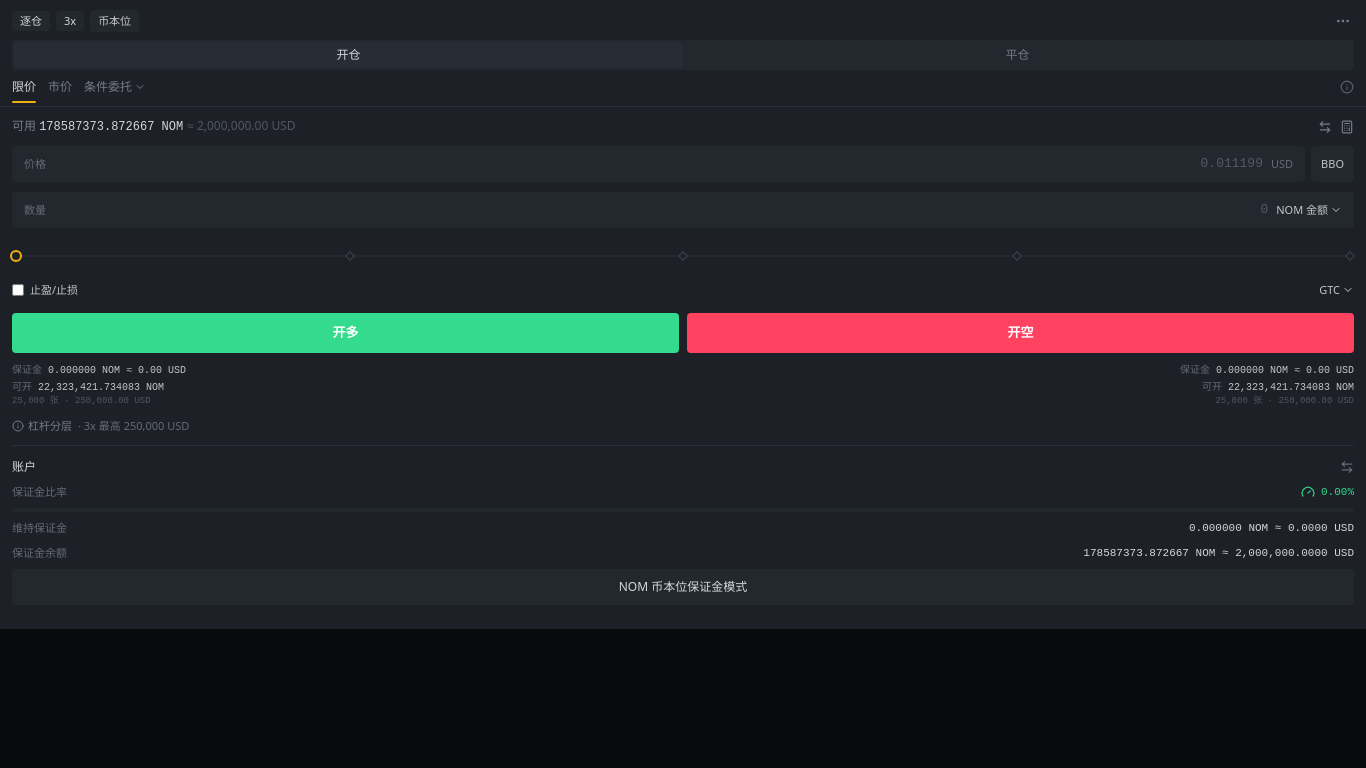
Test: 条件委托按触发价折算 › 触发价高于市价（买入止损）方向同样成立：3300 币是 4 张而不是 3 张
This screenshot has width=1366, height=768.
Step 1. Click the button with test id "advanced-type-slot" → (115, 90), box [84,78,146,102]
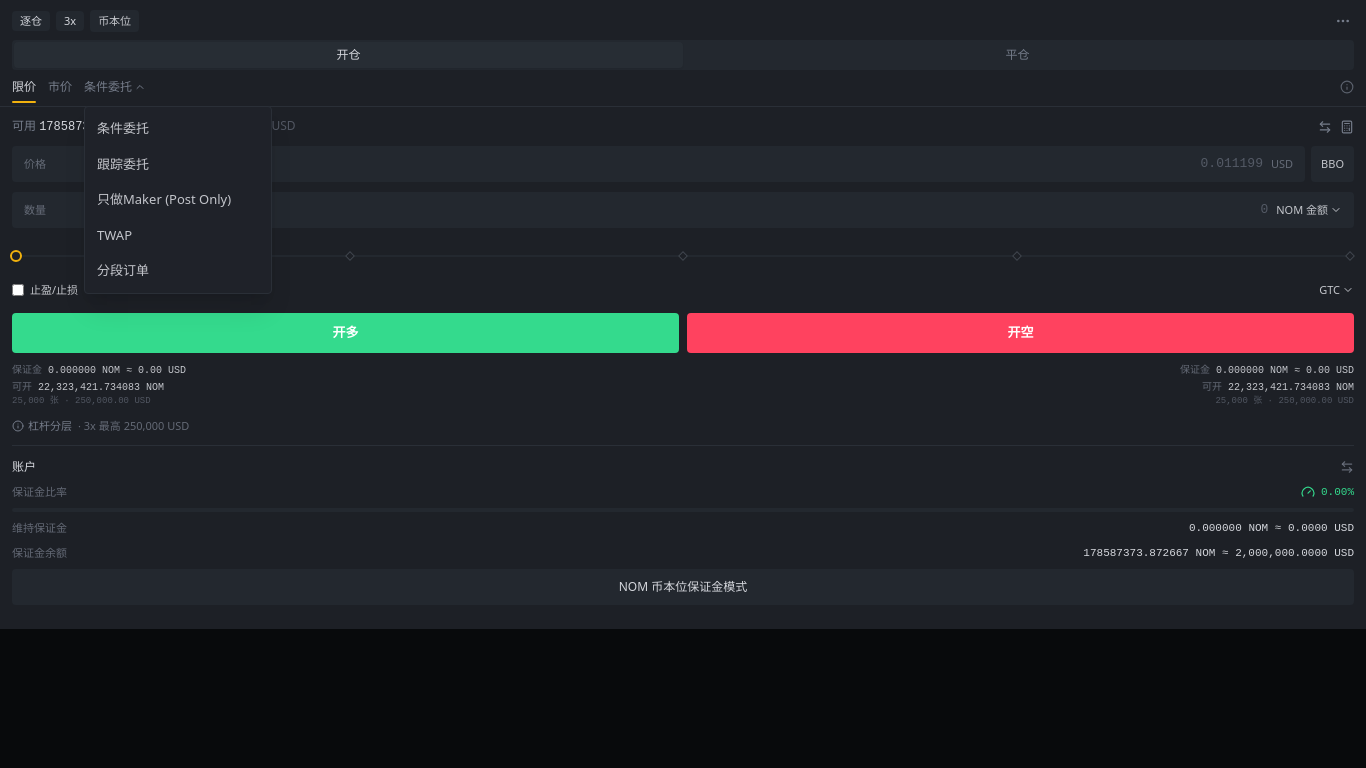
Step 2. Click the 2nd button "条件委托" → (178, 129), box [85,111,271,146]
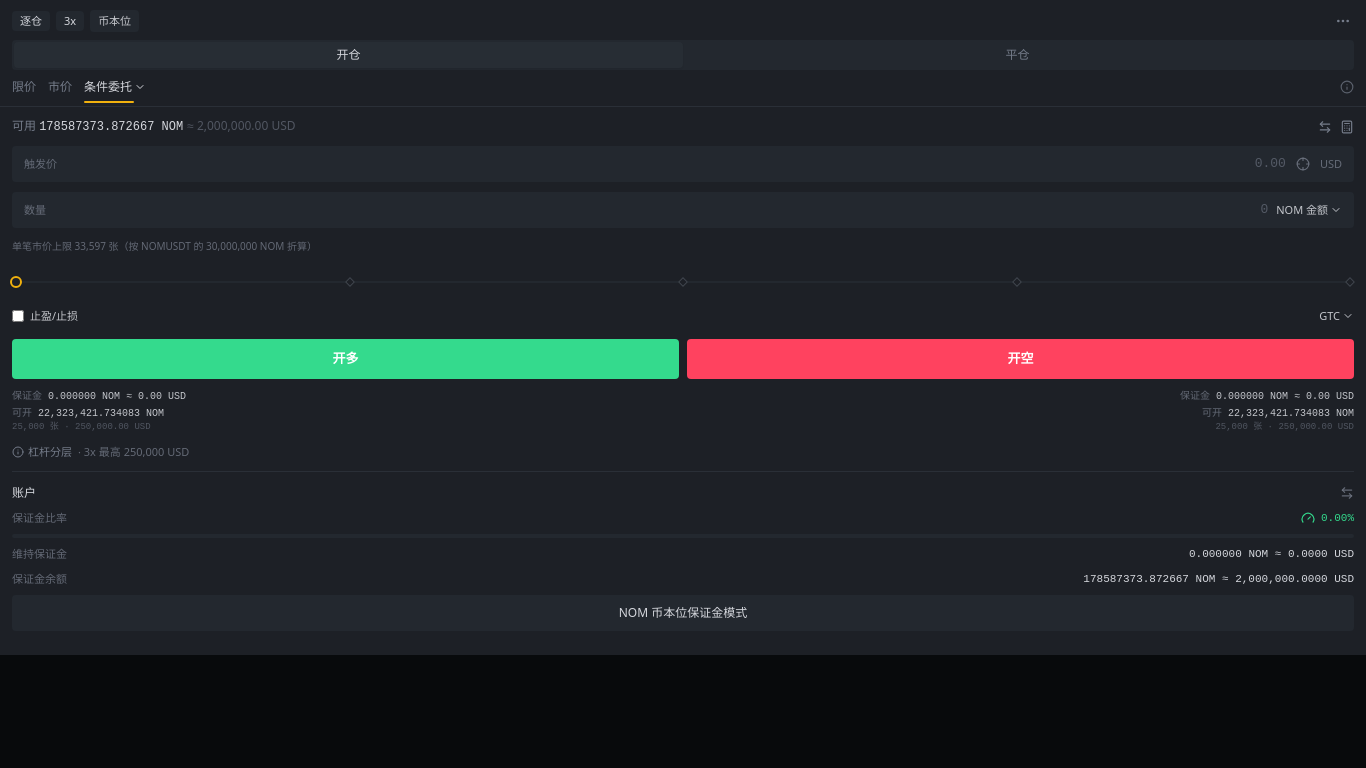
Step 3. Type "0.0125" into the field with test id "order-trigger-price" → (675, 164), box [65,154,1286,174]
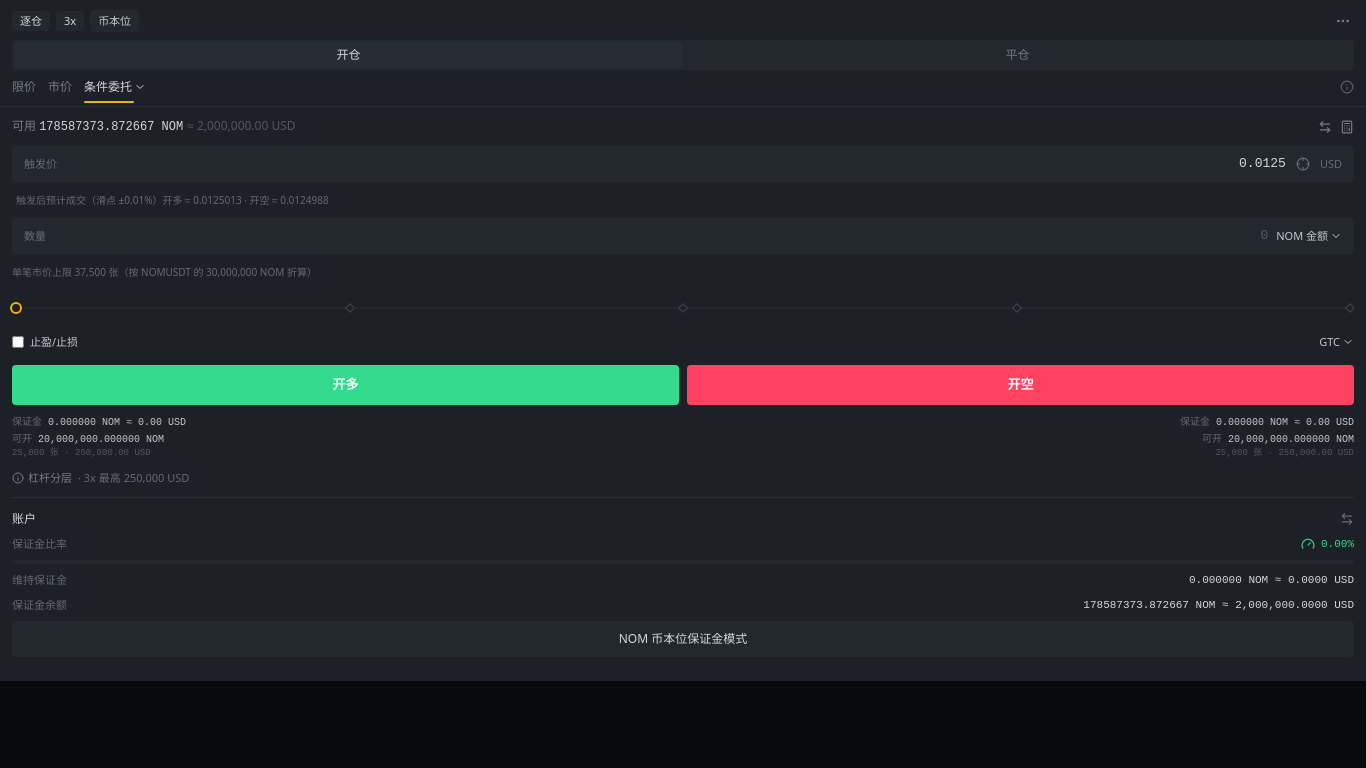
Step 4. Type "3300" into the field with test id "order-qty-input" → (661, 236), box [54,226,1268,246]
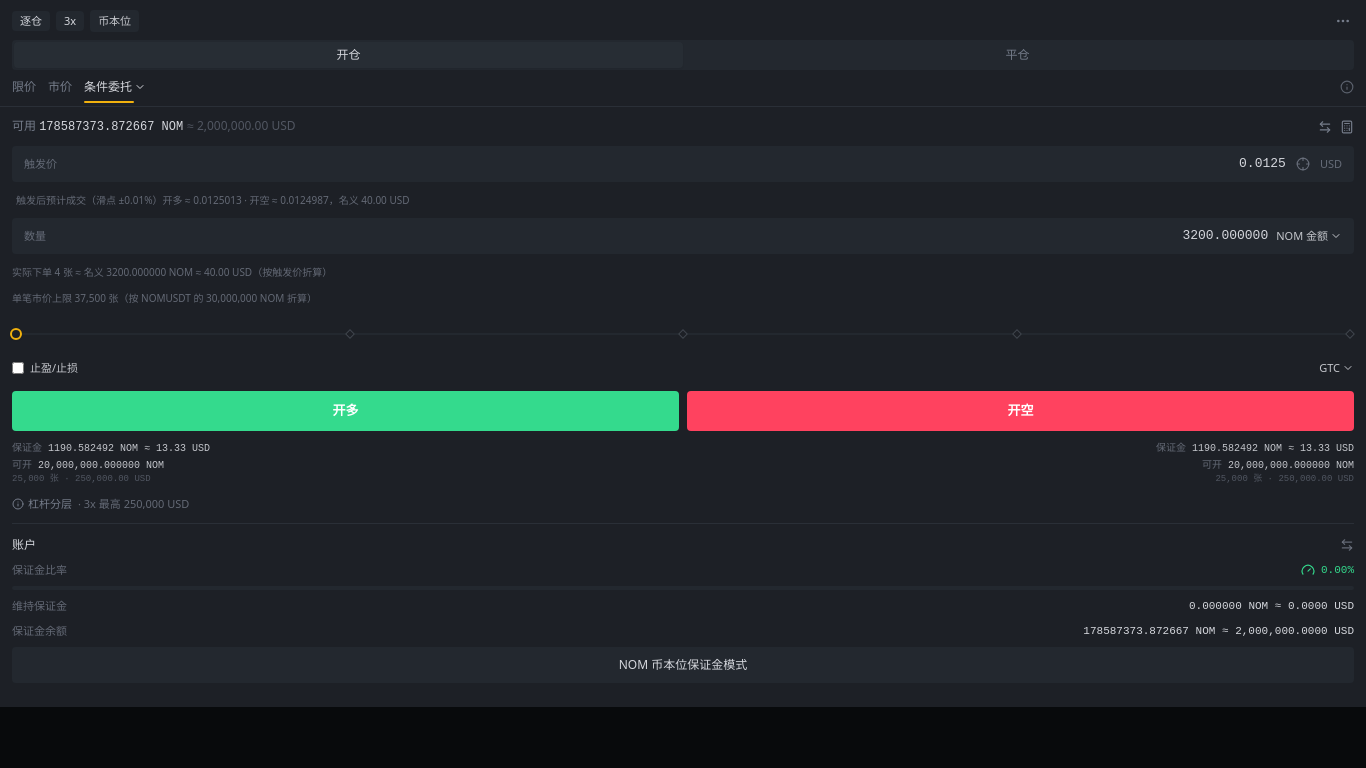
Expected: the text with test id "coin-effective-qty-hint" shows "实际下单 4 张", [12,265,332,279]
